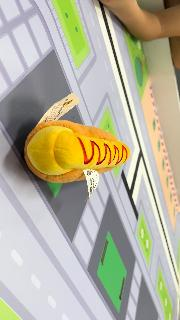hotdog: (24, 120, 130, 184)
